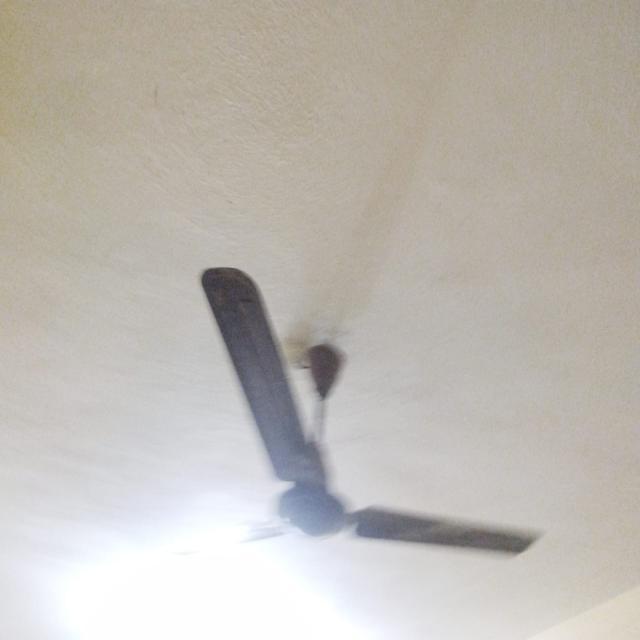fan_off: (184, 264, 540, 556)
